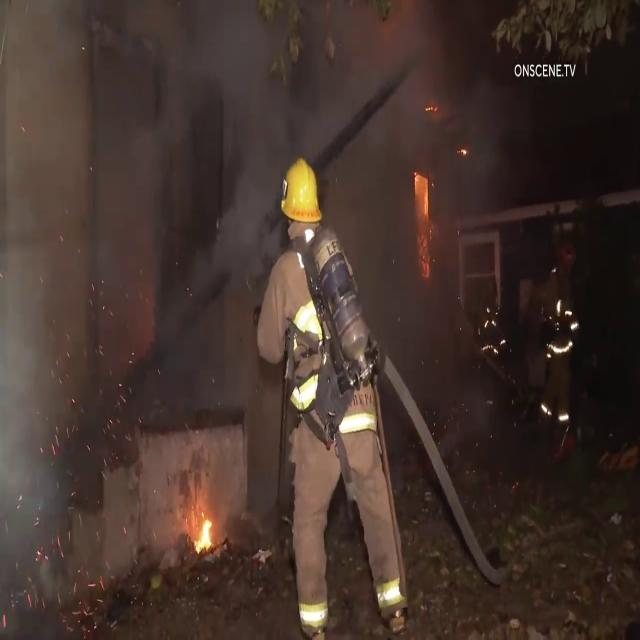Fire: (412, 164, 443, 284), (201, 510, 218, 550)
Smoke: (165, 13, 458, 144), (226, 166, 252, 224)
